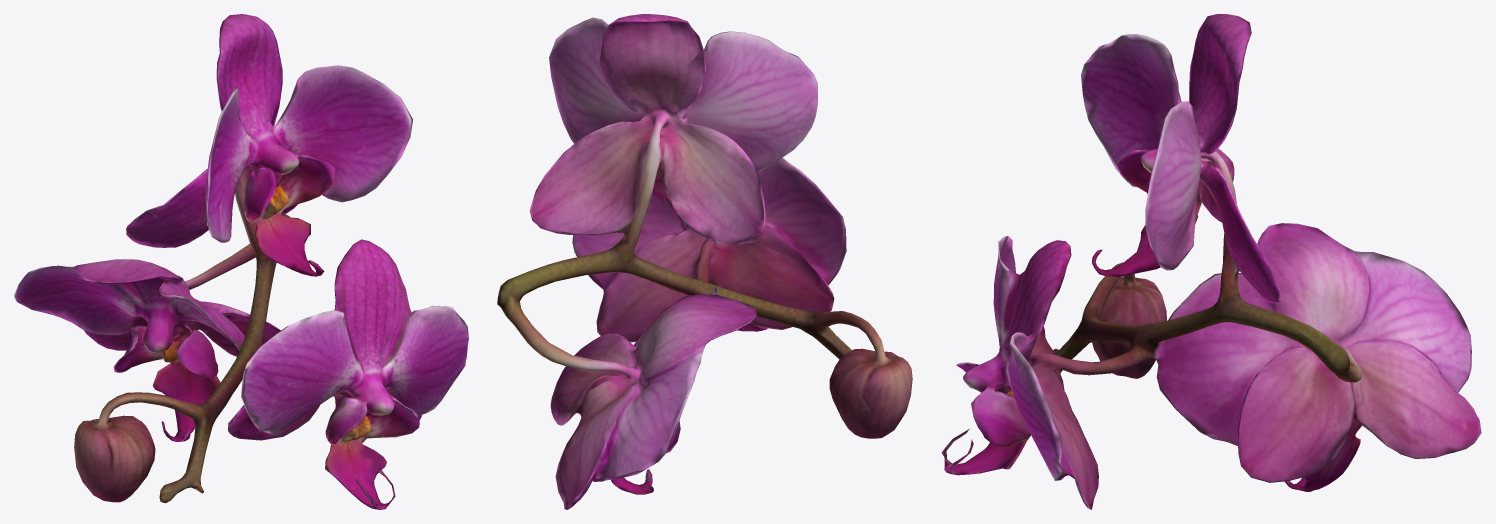
File: orchid.glb
3 views of the same model, side by side, from view 1: azimuth 30°, elevation 25°; view 2: azimuth 150°, elevation 25°; view 3: azimuth 270°, elevation 25° (orthographic). The views are drawn at different scales.
Parts seen in each view (by area): view 1: Object_2; view 2: Object_2; view 3: Object_2.
Boxes of the visible parts, left/top/right/bottom form: Object_2: left=14, top=14, right=468, bottom=509; Object_2: left=497, top=14, right=912, bottom=509; Object_2: left=941, top=14, right=1481, bottom=509.
Bounding box in the file's own units: 0.3121 × 0.3655 × 0.3698.
1 material, 1 textured.
